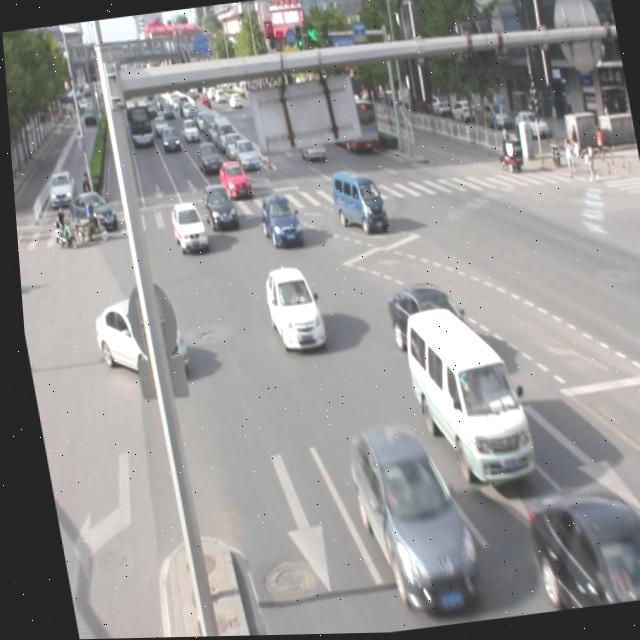car: (335, 418, 474, 621), (509, 479, 640, 615), (86, 291, 186, 387), (380, 279, 474, 375), (257, 263, 321, 353), (255, 192, 301, 250), (165, 200, 205, 255), (196, 182, 235, 230)
truck: (394, 301, 530, 491), (326, 168, 383, 237)
